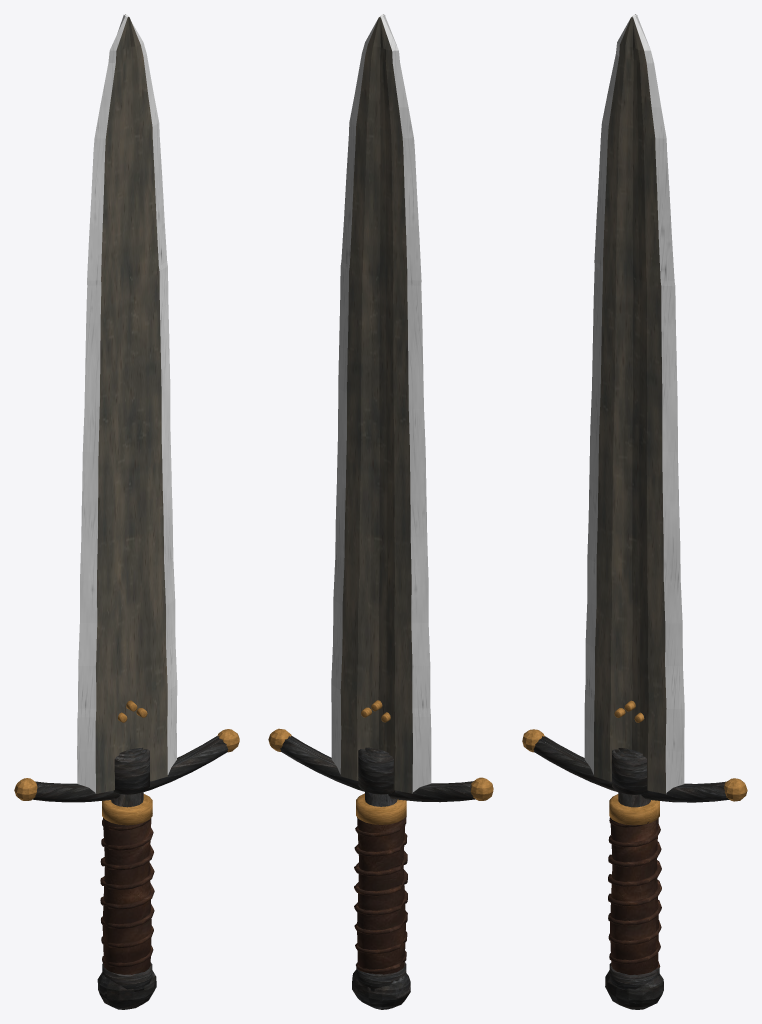
Rendered from oath_blade.glb.
3 views of the same model, side by side, from view 1: azimuth 30°, elevation 25°; view 2: azimuth 150°, elevation 25°; view 3: azimuth 330°, elevation 25° (orthographic).
Visible parts, largest first — view 1: Forged Blade with Eased Bevels, Bound palm grip, Hand-forged crossguard, Continuous bound leather seam, Rounded blade shoulder, Cast counterweight, Grip forward ferrule, Grip rear ferrule; view 2: Forged Blade with Eased Bevels, Bound palm grip, Hand-forged crossguard, Continuous bound leather seam, Rounded blade shoulder, Cast counterweight, Grip forward ferrule, Grip rear ferrule; view 3: Forged Blade with Eased Bevels, Bound palm grip, Hand-forged crossguard, Continuous bound leather seam, Rounded blade shoulder, Cast counterweight, Grip forward ferrule, Grip rear ferrule.
Part boxes in pixels (bbox=[...]): Forged Blade with Eased Bevels: bbox=[77, 14, 177, 793]; Bound palm grip: bbox=[102, 818, 151, 974]; Hand-forged crossguard: bbox=[32, 736, 228, 802]; Continuous bound leather seam: bbox=[100, 818, 154, 967]; Rounded blade shoulder: bbox=[113, 749, 149, 794]; Cast counterweight: bbox=[97, 970, 156, 1009]; Grip forward ferrule: bbox=[102, 794, 152, 825]; Grip rear ferrule: bbox=[102, 962, 152, 991]; Forged Blade with Eased Bevels: bbox=[331, 14, 431, 793]; Bound palm grip: bbox=[357, 817, 405, 974]; Hand-forged crossguard: bbox=[280, 735, 475, 802]; Continuous bound leather seam: bbox=[354, 816, 407, 973]; Rounded blade shoulder: bbox=[358, 749, 394, 794]; Cast counterweight: bbox=[352, 970, 410, 1009]; Grip forward ferrule: bbox=[356, 793, 406, 824]; Grip rear ferrule: bbox=[356, 962, 406, 991]; Forged Blade with Eased Bevels: bbox=[584, 14, 684, 793]; Bound palm grip: bbox=[610, 818, 658, 974]; Hand-forged crossguard: bbox=[533, 736, 729, 802]; Continuous bound leather seam: bbox=[608, 817, 661, 972]; Rounded blade shoulder: bbox=[612, 749, 648, 794]; Cast counterweight: bbox=[605, 970, 663, 1009]; Grip forward ferrule: bbox=[609, 794, 659, 825]; Grip rear ferrule: bbox=[609, 963, 659, 991].
Bounding box in the file's own units: 0.2659 × 1.13 × 0.0559.
Materials: 5 (5 with a texture image).
